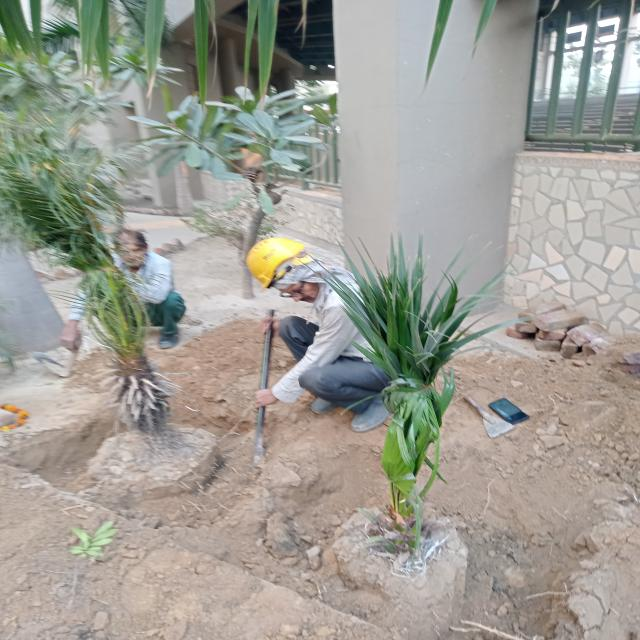no jacket: (242, 238, 406, 434)
unsafe: (64, 228, 186, 352)
